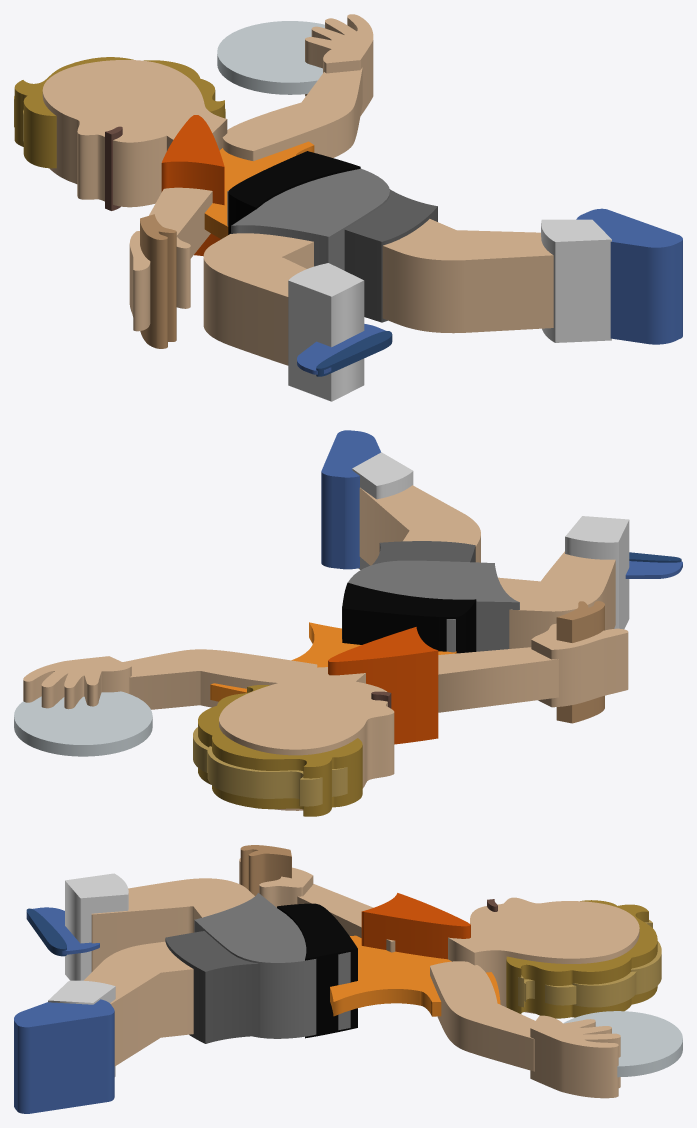
File: emoji_u1f93e_1f3fc.glb
3 renders of one model, top to bottom at view 1: azimuth 30°, elevation 25°; view 2: azimuth 150°, elevation 25°; view 3: azimuth 270°, elevation 25°, orthographic. The views are drawn at different scales.
Parts seen in each view (by area): view 1: emoji_u1f93e_1f3fc; view 2: emoji_u1f93e_1f3fc; view 3: emoji_u1f93e_1f3fc.
Boxes of the visible parts, x1,y1,x2,y2 form: emoji_u1f93e_1f3fc: [14, 14, 682, 401]; emoji_u1f93e_1f3fc: [14, 430, 682, 816]; emoji_u1f93e_1f3fc: [14, 845, 682, 1113].
Size of the model in its own units: 0.0224 by 0.0054 by 0.0336.
